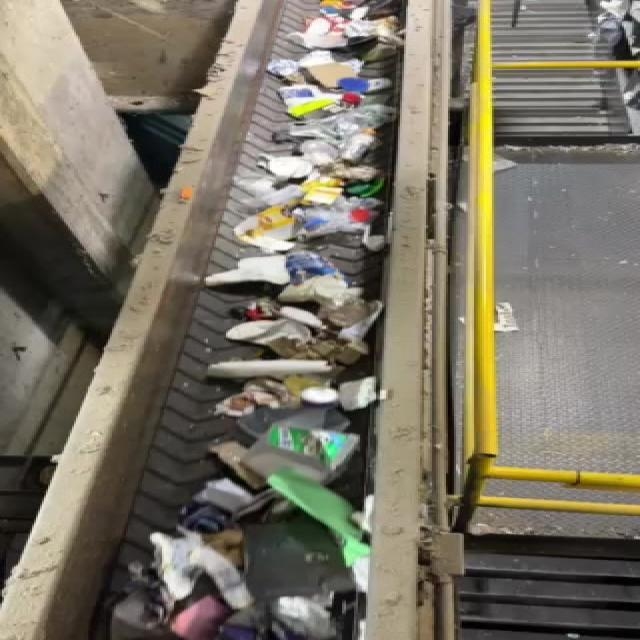paper: (142, 527, 265, 613), (257, 415, 368, 472)
pp: (247, 463, 388, 569)
